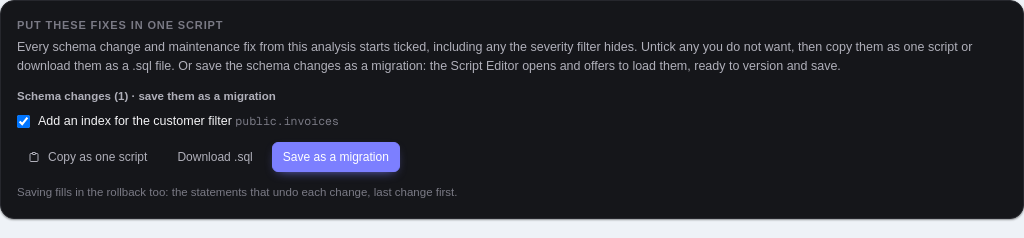
copying the script › says it copied, on the button that did it
The image size is (1024, 238).
What coordinates should you click on to do the following:
click the button "Copy as one script"
I would click on:
 (88, 157)
Its box is [17,142,158,172].
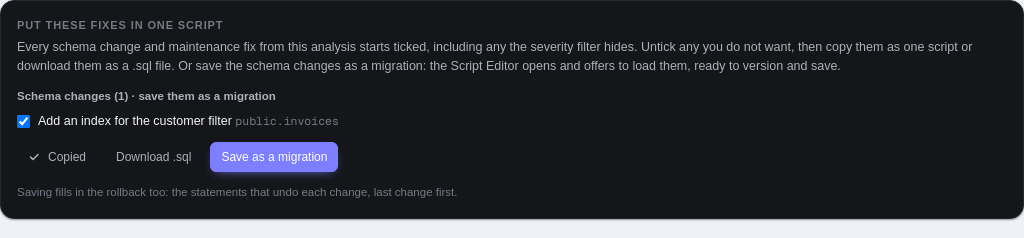
Now the button "Copied" is shown, box [17,142,97,172]
